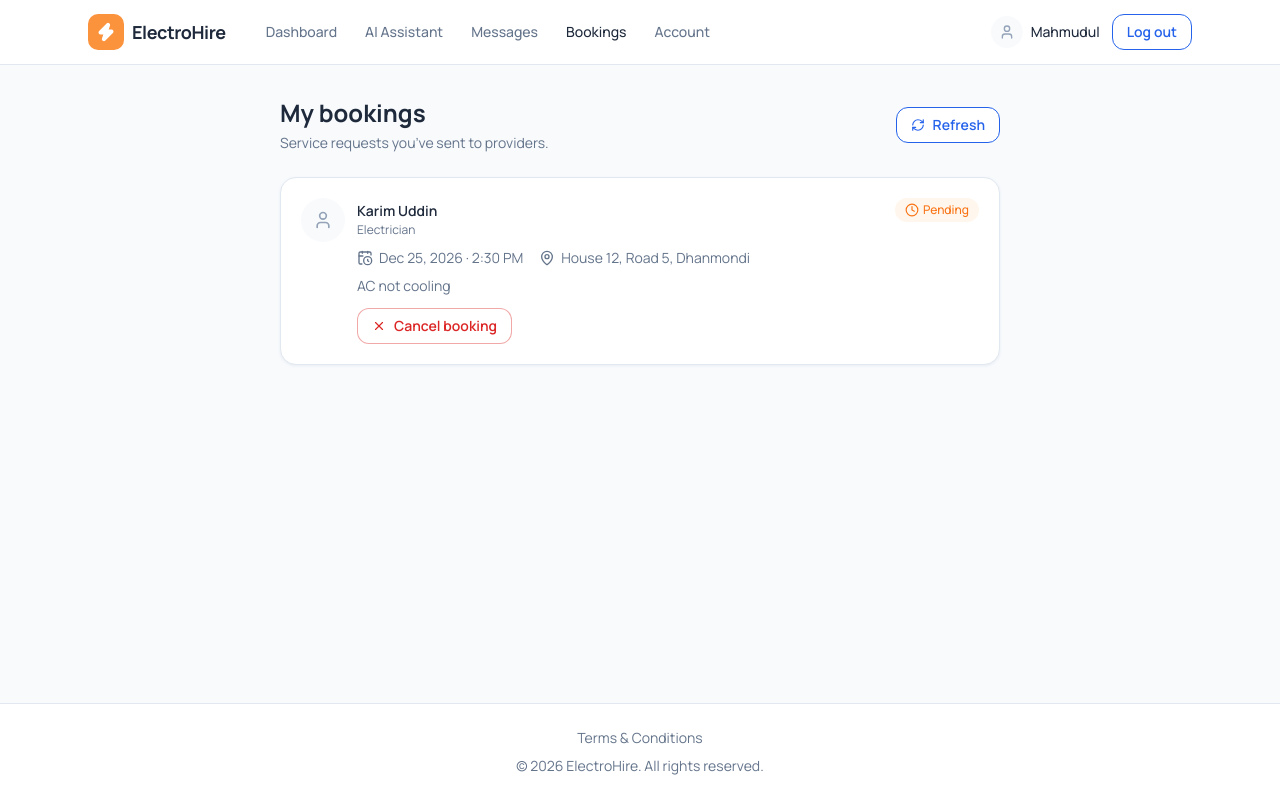
Test case: MyBookingsPage › shows an error message and keeps the booking pending when cancelling fails
This screenshot has width=1280, height=800.
expect the link "Karim Uddin" is shown: met, box [357,201,437,220]
Click the button "Cancel booking" at (435, 326), box [357,308,512,344]
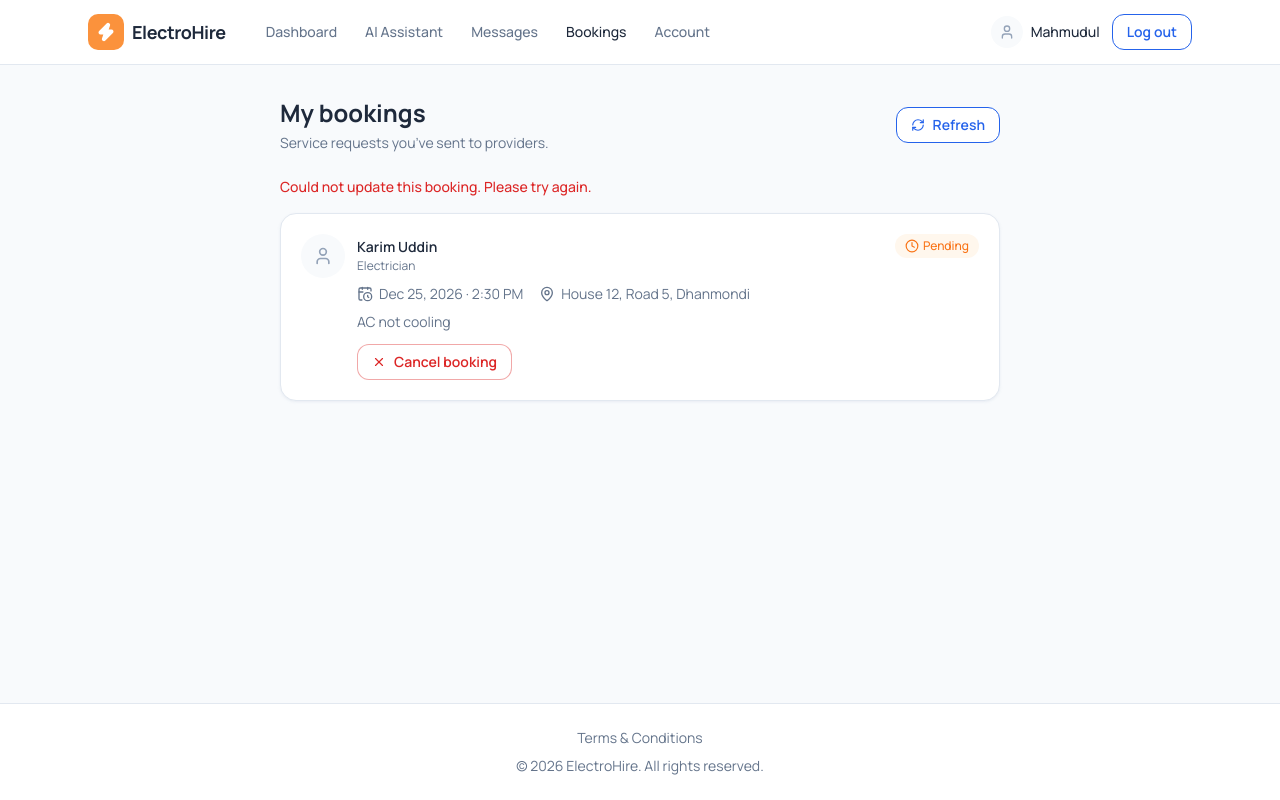
expect the text "Pending" is shown: met, box [895,234,979,258]
expect the text "Could not update this booking. Please try again." is shown: met, box [280,177,592,196]
